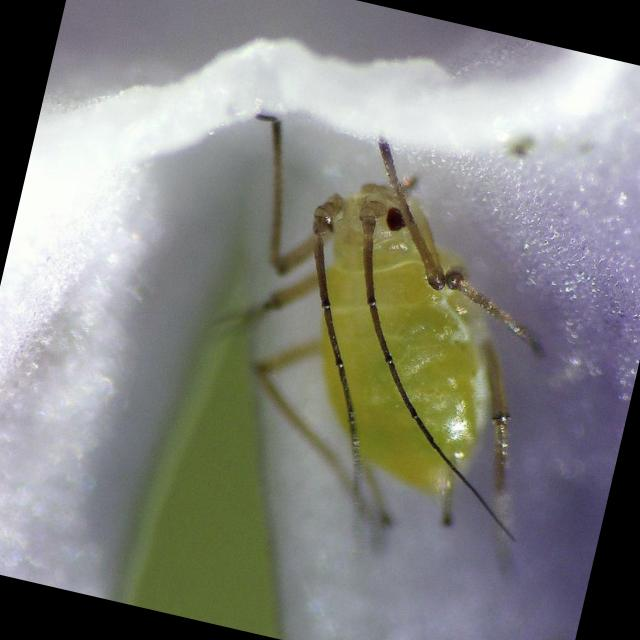Aphids: (184, 92, 598, 567)
